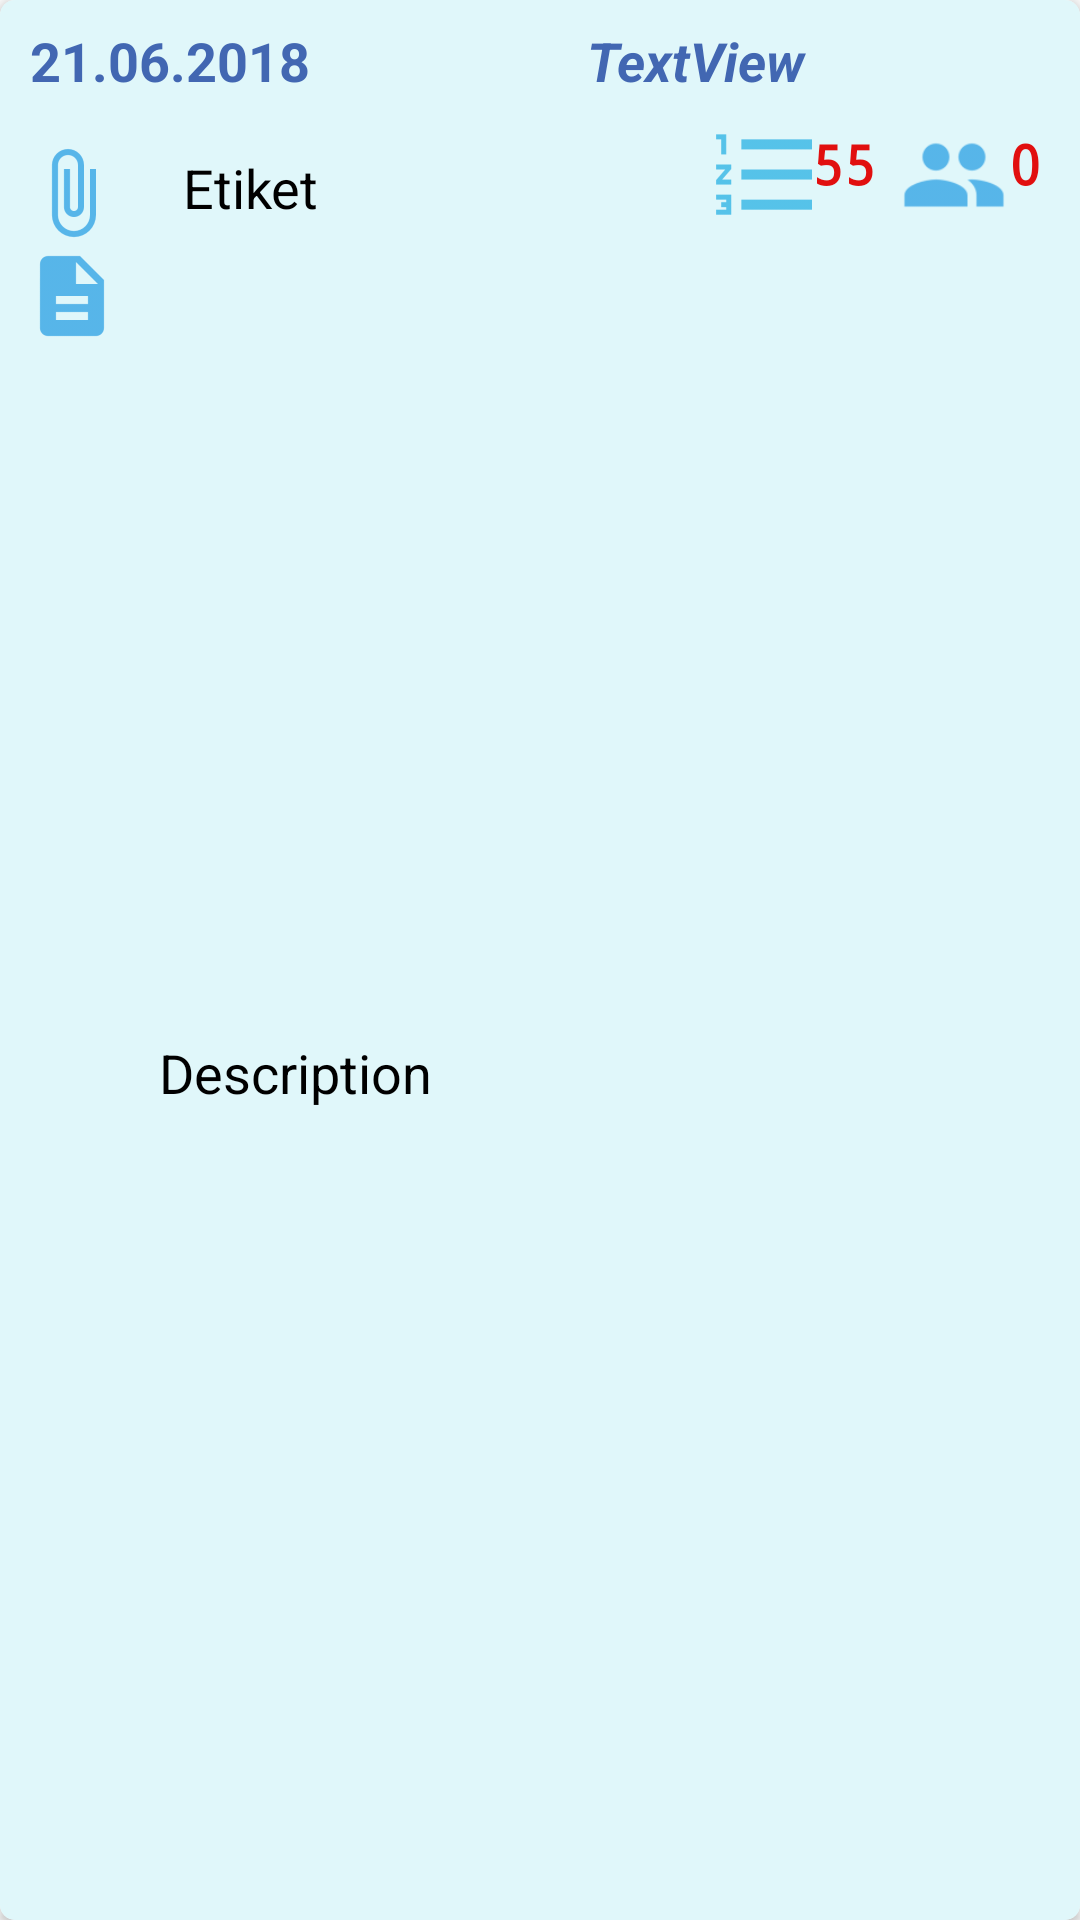

Icons on this 1080px×1920px Android screen, each with its box as box=[x1, y1, x2, y2]:
countman: box=[904, 143, 1004, 207]
